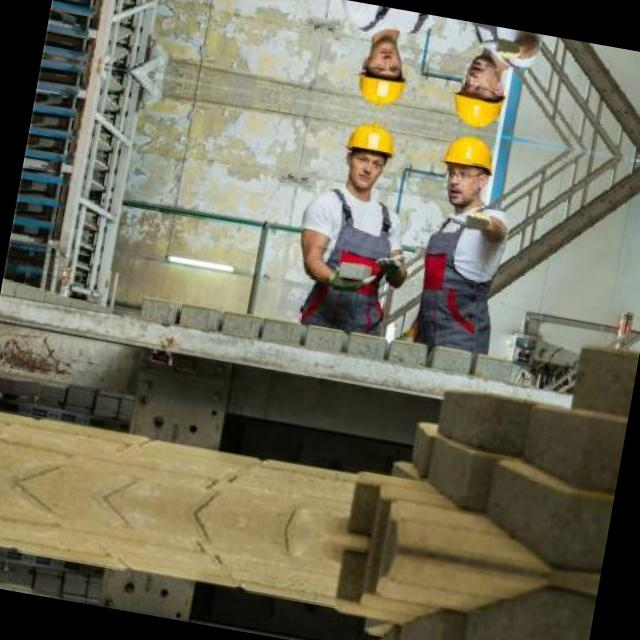helmet: (443, 48, 518, 136), (430, 124, 504, 211), (332, 110, 404, 194), (346, 31, 418, 114)
